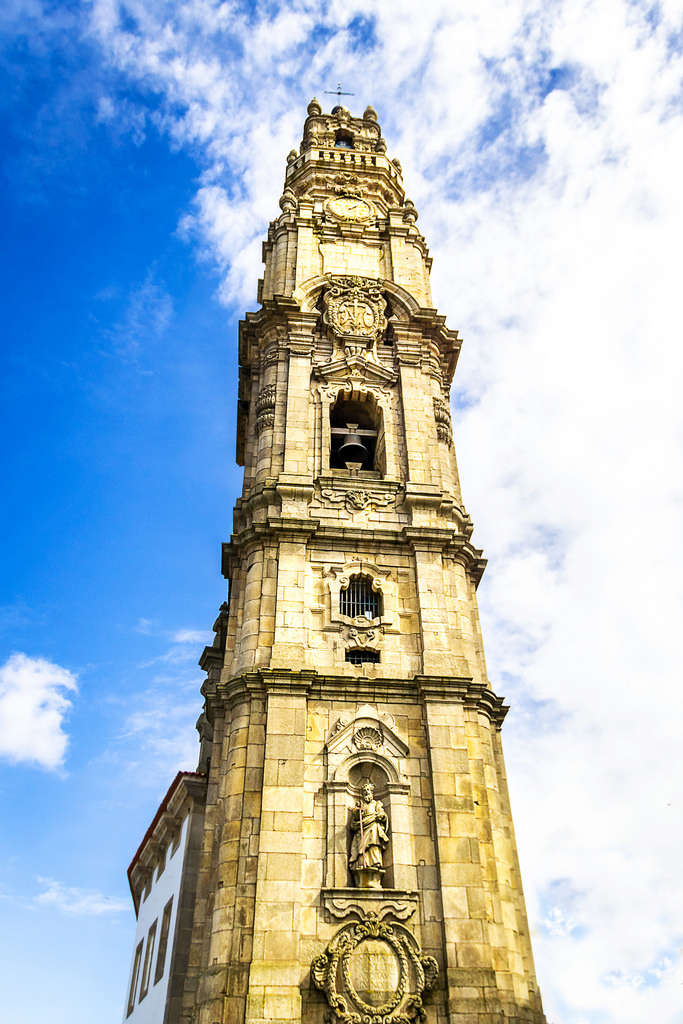clerigos: (183, 82, 549, 1023)
